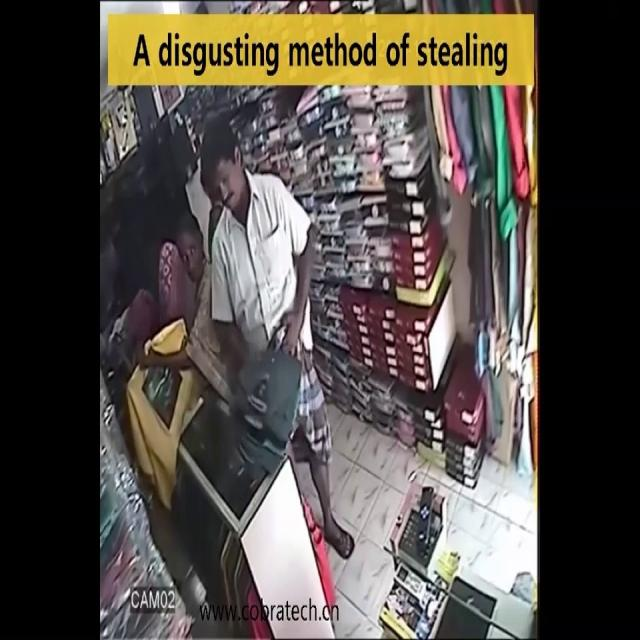Product: (130, 338, 180, 447), (243, 348, 302, 438)
shoplifting: (192, 111, 356, 566), (145, 180, 209, 376)
